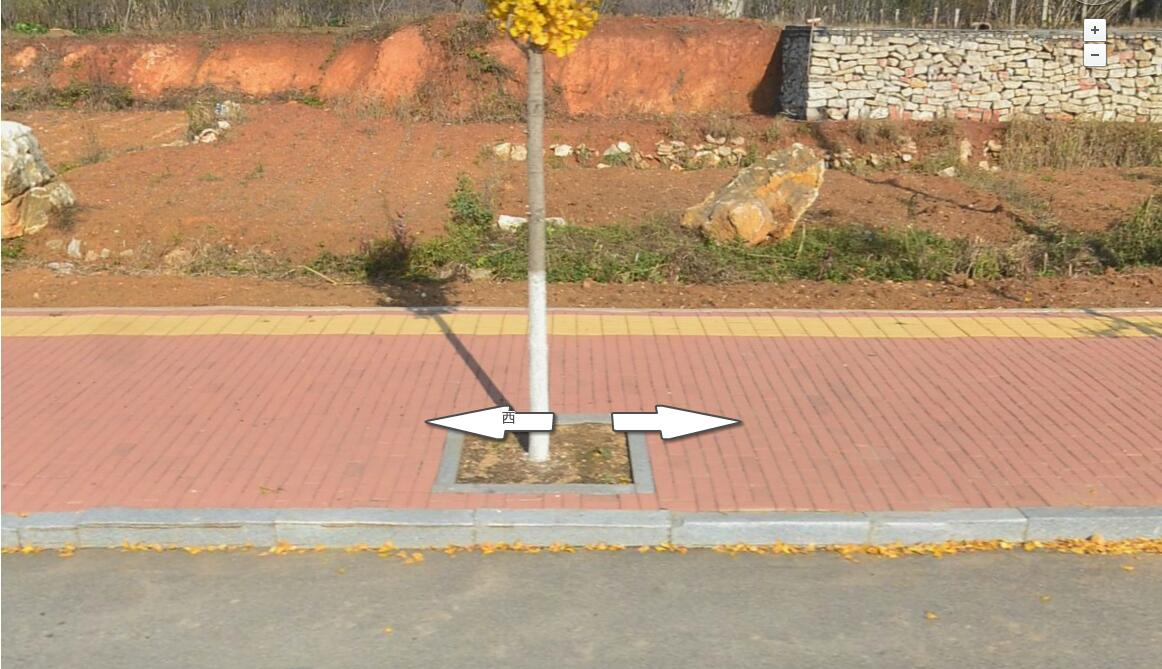side: (473, 507, 673, 553), (278, 508, 475, 551), (74, 509, 278, 549), (673, 512, 871, 551), (868, 509, 1028, 551)
